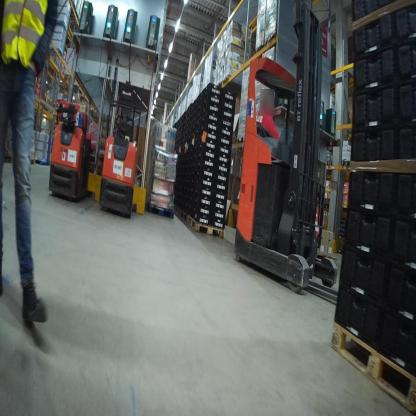forklift: (232, 2, 355, 314)
pallet: (329, 318, 415, 414), (187, 215, 225, 240), (148, 201, 176, 218), (339, 157, 351, 173), (2, 153, 12, 166), (181, 210, 190, 224), (34, 158, 46, 167), (175, 203, 181, 220), (44, 159, 50, 168)
pallet_truck: (95, 67, 147, 234), (39, 88, 100, 204)
